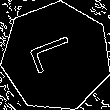L_E: (27, 33, 85, 80)
